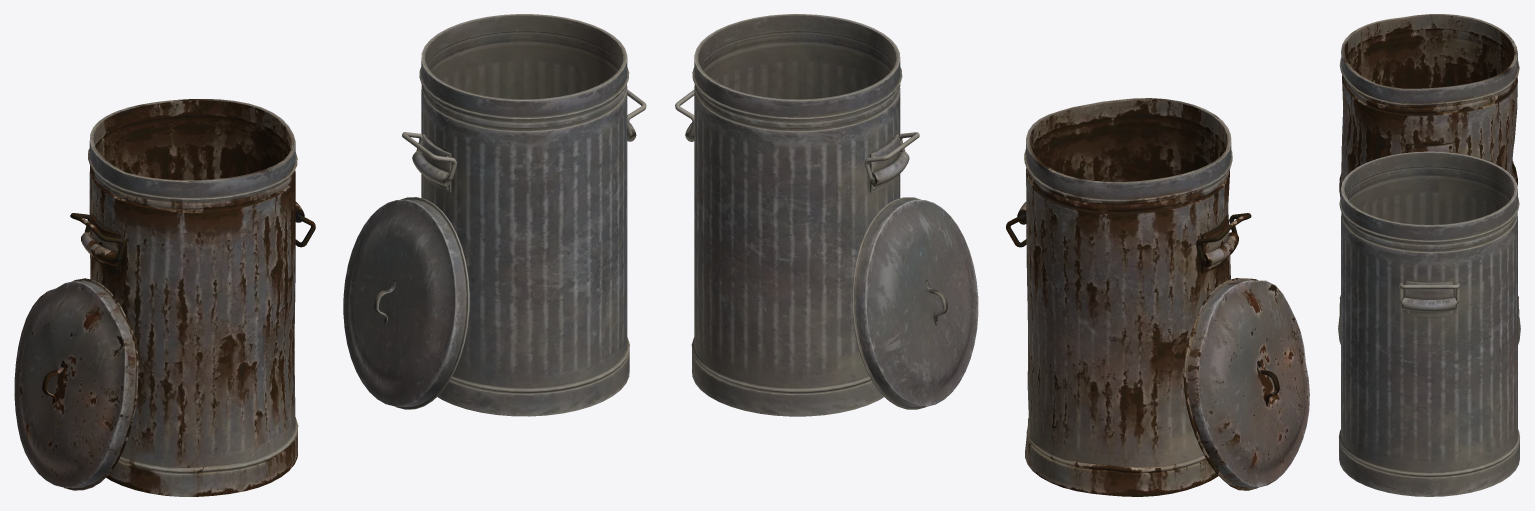
Rendered from metal_trash_can-lod0.glb.
3 views of the same model, side by side, from view 1: azimuth 30°, elevation 25°; view 2: azimuth 150°, elevation 25°; view 3: azimuth 270°, elevation 25° (orthographic). The views are drawn at different scales.
Parts seen in each view (by area): view 1: metal_trash_can_handle_left, metal_trash_can_rust; view 2: metal_trash_can_handle_left, metal_trash_can_rust; view 3: metal_trash_can_handle_left, metal_trash_can_rust.
Part boxes in pixels (x1,y1,x2,y2): metal_trash_can_handle_left: (343,14,646,416); metal_trash_can_rust: (14,99,315,496); metal_trash_can_handle_left: (675,14,978,416); metal_trash_can_rust: (1006,98,1309,496); metal_trash_can_handle_left: (1338,151,1520,496); metal_trash_can_rust: (1339,14,1519,316).
Size of the model in its own units: 1.78 by 0.9062 by 0.5563.
Materials: 2 (2 with a texture image).
